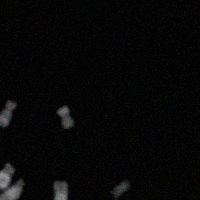chromosome: (52, 179, 83, 200), (0, 180, 23, 200), (0, 100, 16, 127), (0, 163, 14, 189), (57, 106, 72, 128), (111, 180, 130, 197)
